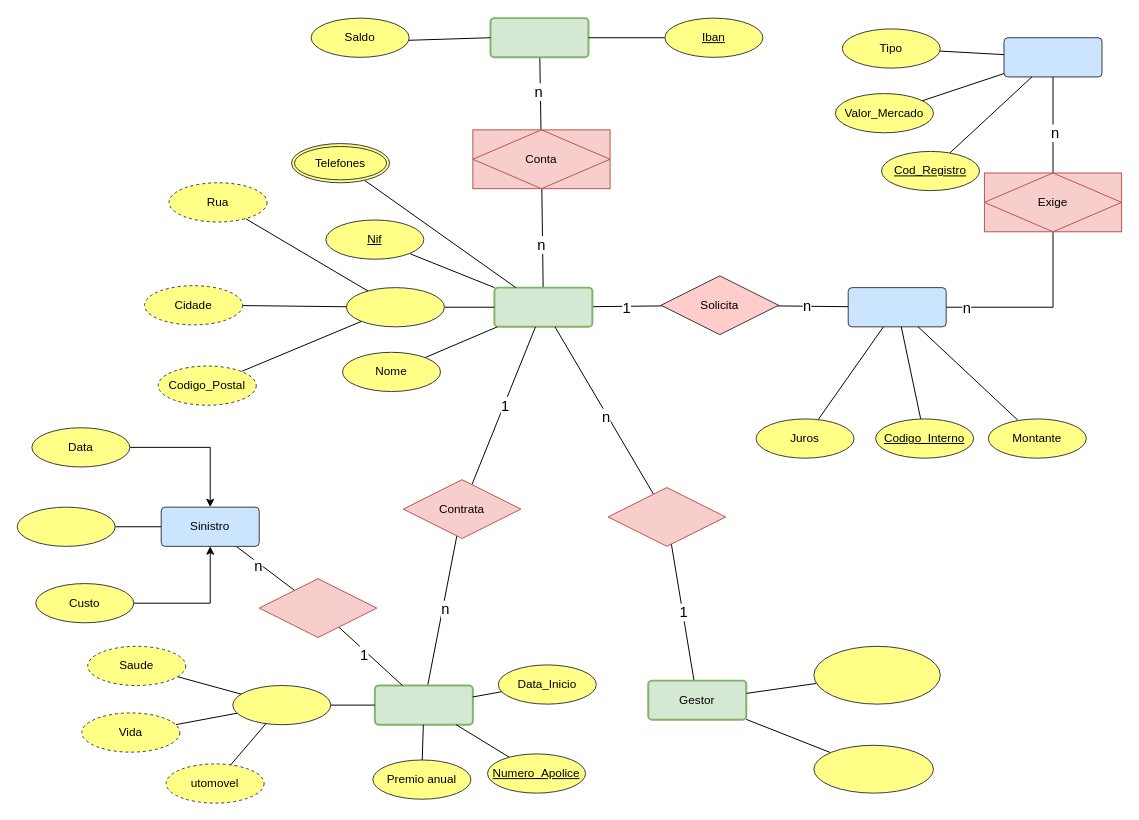
This 1139x820 diagram has some shape labels left out. Each missing label, with the box of its shape:
Cliente: (493, 286, 593, 327)
Conta_Bancaria: (489, 17, 589, 58)
Controla: (258, 578, 377, 637)
Endereço: (345, 287, 444, 327)
Fanciamento: (847, 287, 946, 327)
Garantia: (1003, 37, 1102, 77)
Gere: (607, 487, 726, 546)
ID_sinisto: (16, 506, 115, 546)
Nome_Gestor: (813, 744, 933, 793)
Numero_Funcionario: (813, 645, 940, 704)
Seguro: (373, 684, 473, 725)
Tipo_seguro: (232, 685, 331, 725)
